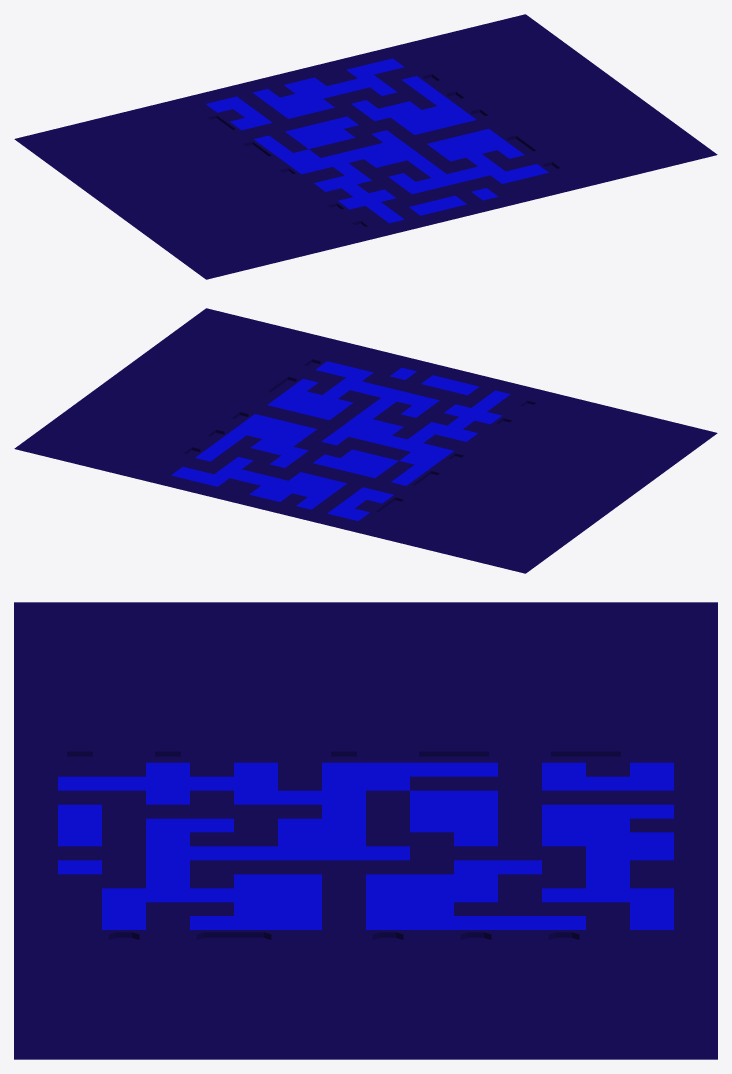
The model's file is floor1.glb.
3 renders of one model, top to bottom at view 1: azimuth 30°, elevation 25°; view 2: azimuth 150°, elevation 25°; view 3: azimuth 270°, elevation 25°, orthographic. The views are drawn at different scales.
Visible parts, largest first — view 1: Plane; view 2: Plane; view 3: Plane.
Boxes of the visible parts, x1,y1,x2,y2 form: Plane: (14, 14, 717, 279); Plane: (14, 308, 717, 573); Plane: (14, 602, 717, 1059).
Bounding box in the file's own units: 123 × 0.7 × 80.
